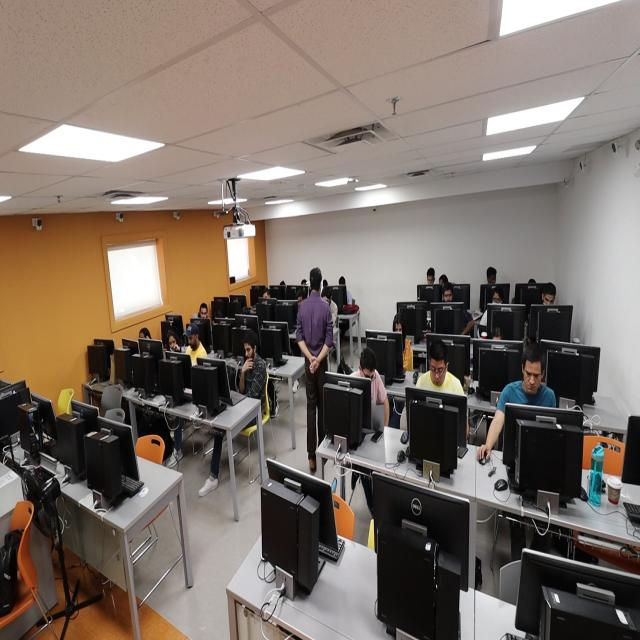Distracted: (522, 360, 542, 394), (429, 355, 446, 387), (360, 362, 376, 387), (186, 332, 200, 351), (244, 339, 255, 363), (168, 335, 177, 352), (443, 290, 452, 304)
